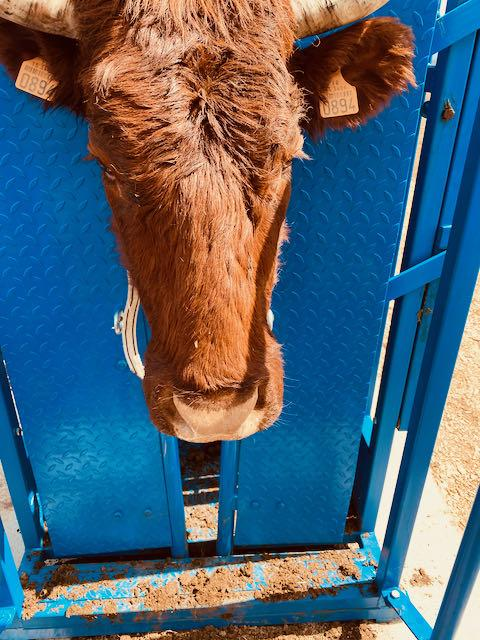muzzles: (134, 372, 289, 450)
